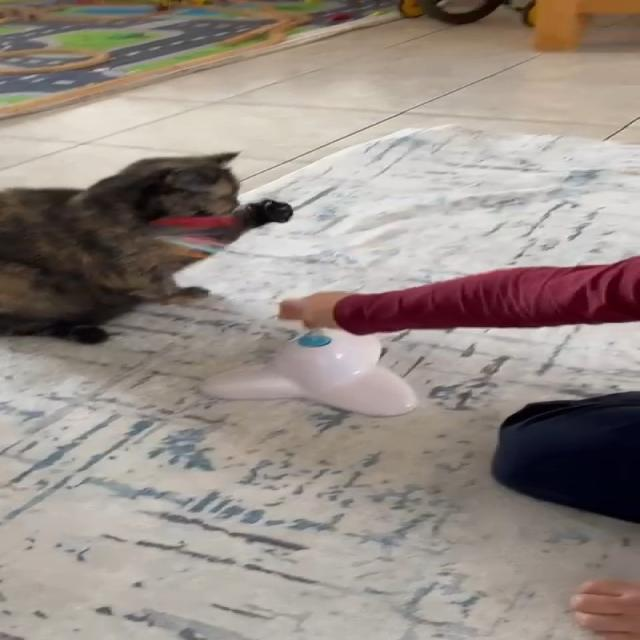authorized: (0, 149, 292, 345)
